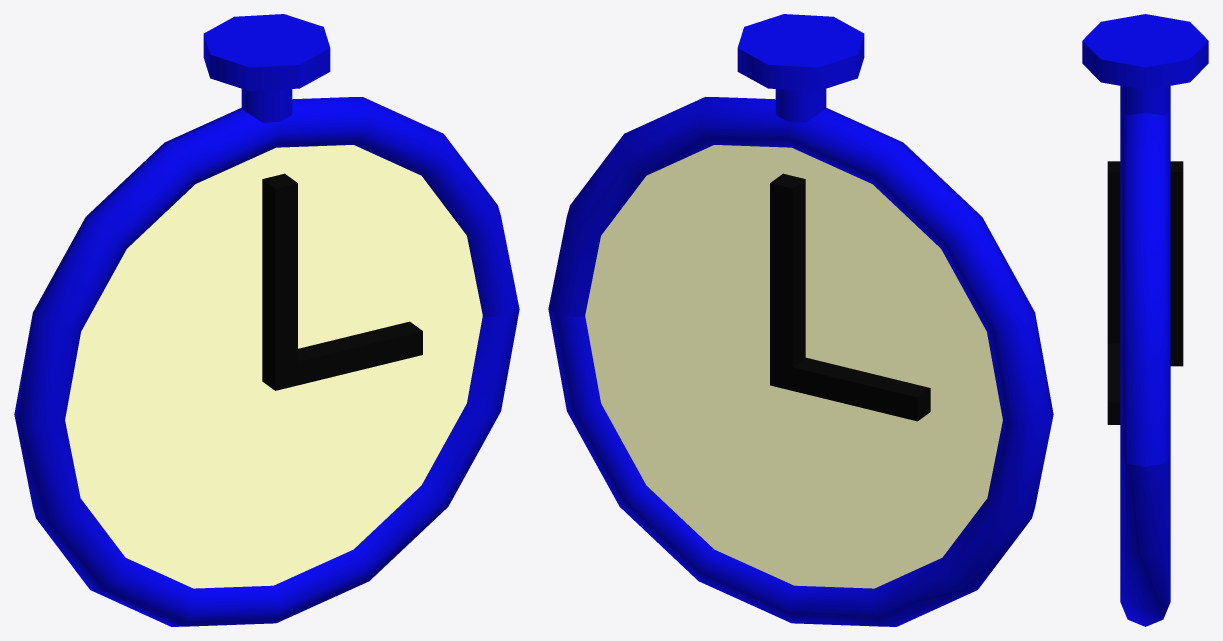
File: item002.fbx
The picture shows the model from 3 angles, left to right: view 1: azimuth 30°, elevation 25°; view 2: azimuth 150°, elevation 25°; view 3: azimuth 270°, elevation 25°; orthographic projection. The views are drawn at different scales.
Visible parts, largest first — view 1: obj0, obj1, obj2; view 2: obj0, obj1, obj2; view 3: obj1, obj2.
Boxes of the visible parts, x1,y1,x2,y2 form: obj0: (65, 145, 482, 588); obj1: (14, 14, 519, 626); obj2: (262, 173, 422, 390); obj0: (585, 145, 1002, 588); obj1: (548, 14, 1053, 626); obj2: (770, 173, 930, 421); obj1: (1082, 14, 1208, 626); obj2: (1107, 161, 1183, 424).
Size of the model in its own units: 22 by 24.5 by 5.
